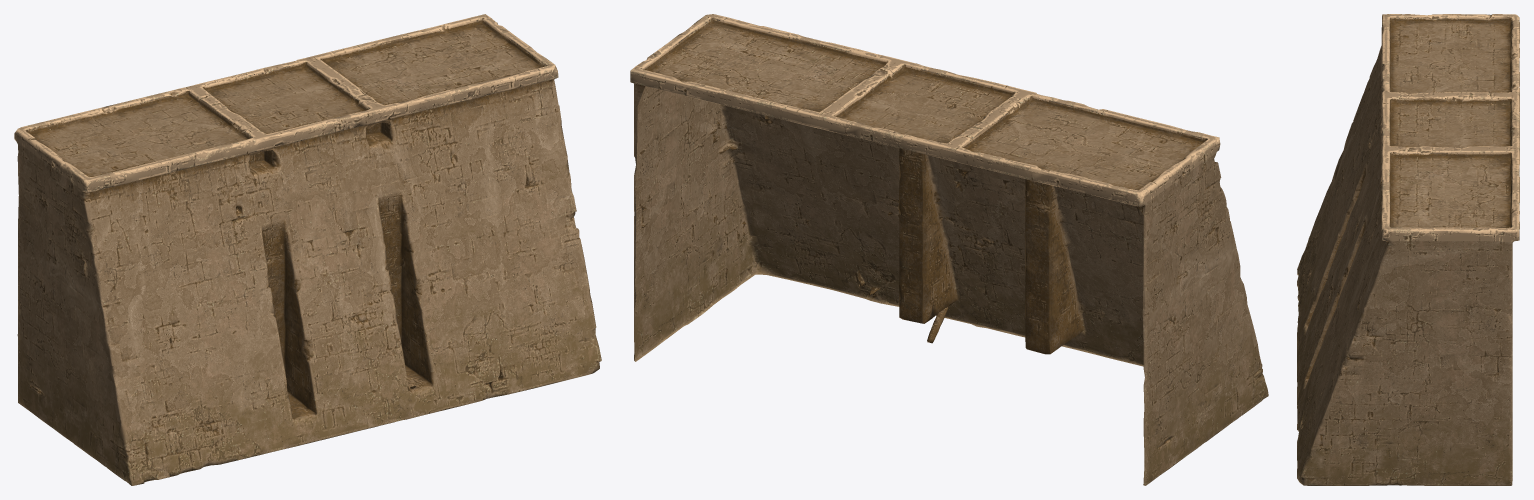
Rendered from wall_Angled1.fbx.
3 renders of one model, left to right at view 1: azimuth 30°, elevation 25°; view 2: azimuth 150°, elevation 25°; view 3: azimuth 270°, elevation 25°, orthographic. The views are drawn at different scales.
Parts seen in each view (by area): view 1: DesertTemple_Wall_Angled_01; view 2: DesertTemple_Wall_Angled_01; view 3: DesertTemple_Wall_Angled_01.
Part boxes in pixels (bbox=[...]): DesertTemple_Wall_Angled_01: bbox=[14, 14, 601, 485]; DesertTemple_Wall_Angled_01: bbox=[630, 14, 1268, 485]; DesertTemple_Wall_Angled_01: bbox=[1297, 14, 1519, 485].
Size of the model in its own units: 1200 by 664 by 521.
1 material, 1 textured.
